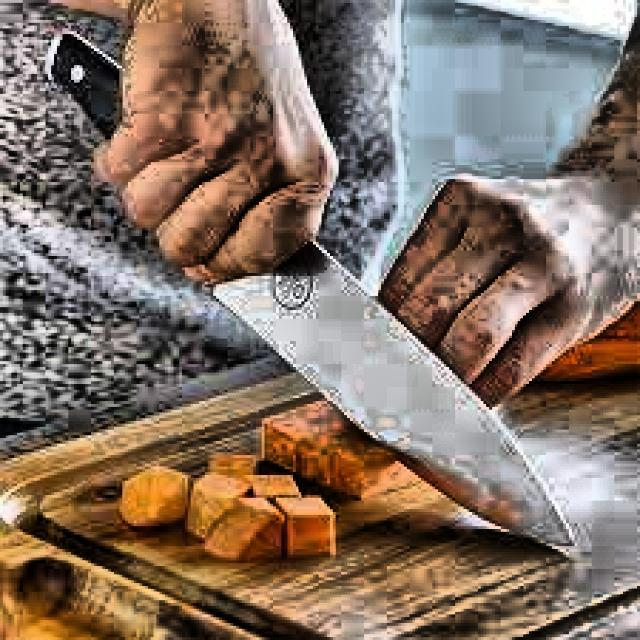knife: (48, 33, 575, 551)
